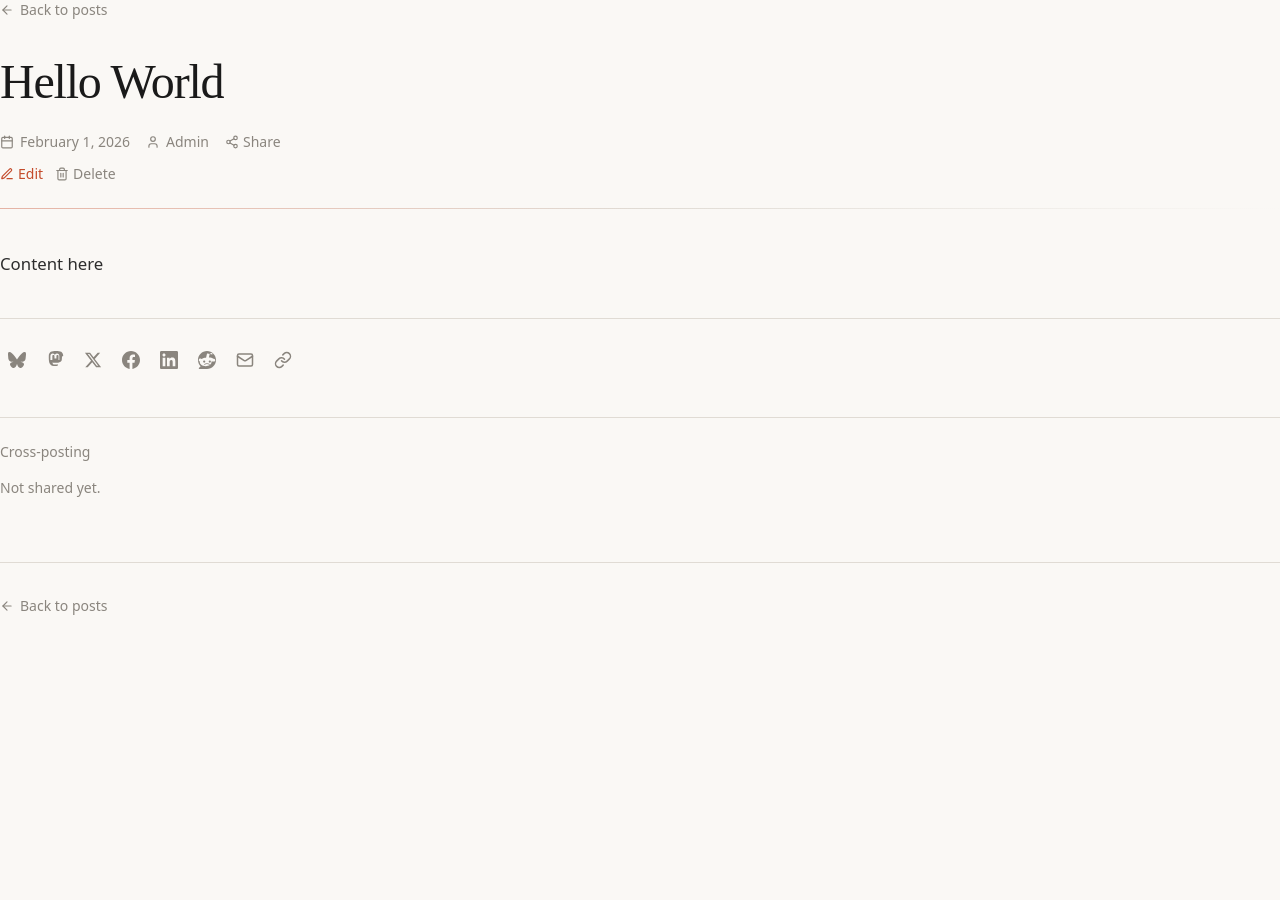
Test: PostPage › shows confirmation dialog on delete click
Click the button "Delete": (85, 174) [55,164,116,184]
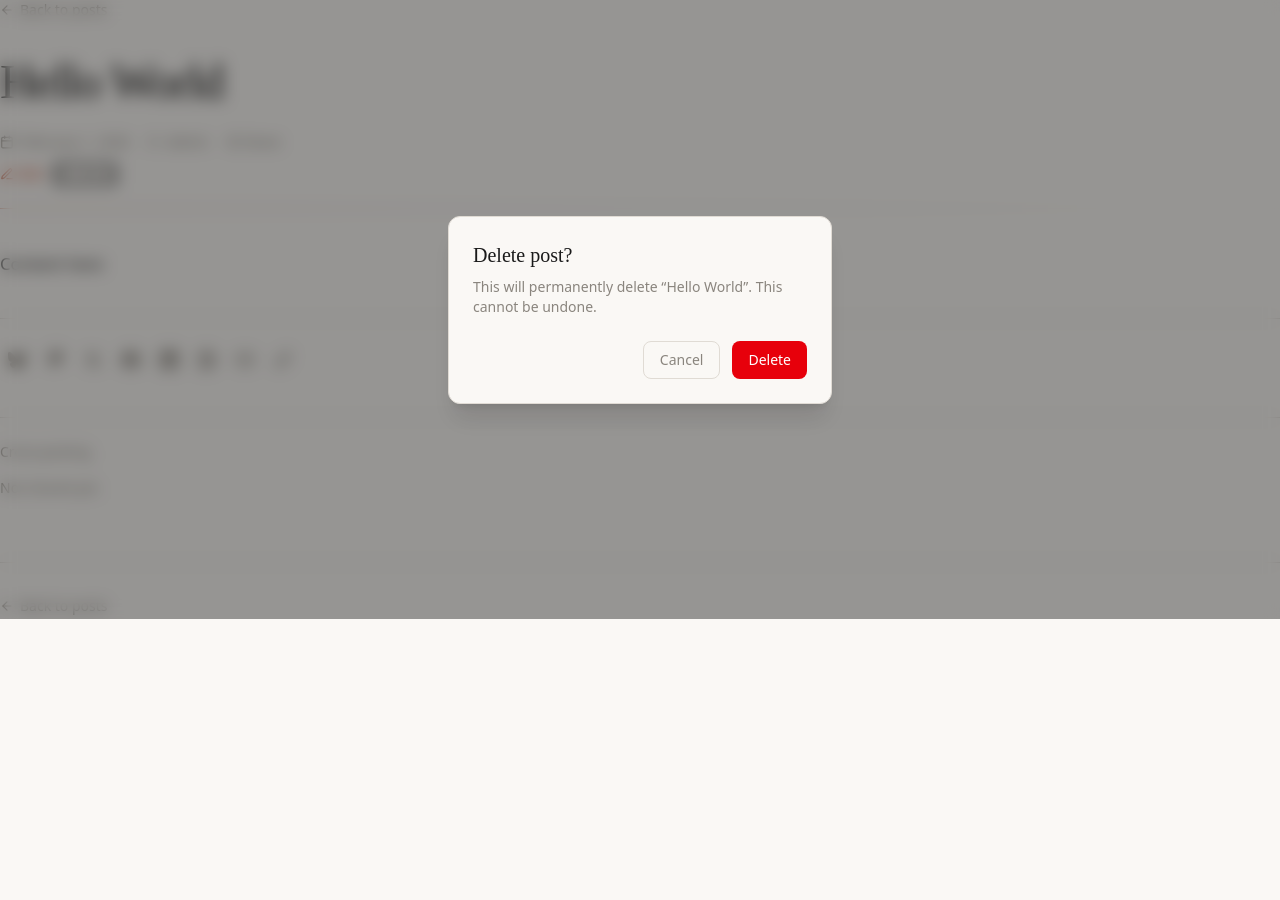
Now the heading "Delete post?" is shown, box [473,244,572,266]
Now the button "Cancel" is shown, box [643,341,720,379]
Now the text "This will permanently delete" is shown, box [473,277,666,296]
